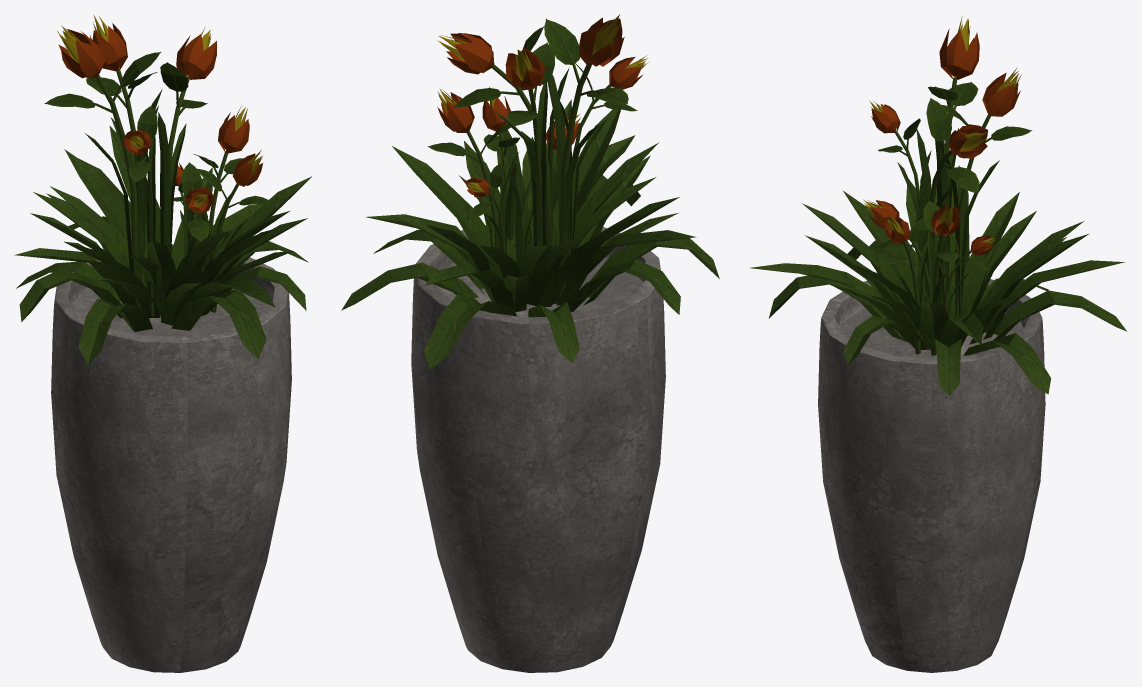
File: INS PLANT BIG 3.fbx
The picture shows the model from 3 angles, left to right: view 1: azimuth 30°, elevation 25°; view 2: azimuth 150°, elevation 25°; view 3: azimuth 270°, elevation 25°; orthographic projection. The views are drawn at different scales.
Visible parts, largest first — view 1: INS PLANT BIG 3; view 2: INS PLANT BIG 3; view 3: INS PLANT BIG 3.
Part boxes in pixels (x1,y1,x2,y2): INS PLANT BIG 3: [14, 14, 311, 672]; INS PLANT BIG 3: [341, 14, 719, 672]; INS PLANT BIG 3: [750, 16, 1126, 672].
Size of the model in its own units: 69.44 by 139 by 80.96.
